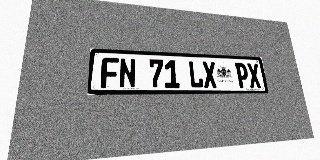1: (164, 60, 180, 88)
7: (148, 59, 164, 88)
F: (100, 57, 119, 88)
L: (188, 61, 204, 88)
N: (119, 58, 136, 88)
P: (234, 63, 250, 88)
X: (202, 61, 218, 88), (246, 63, 262, 88)
